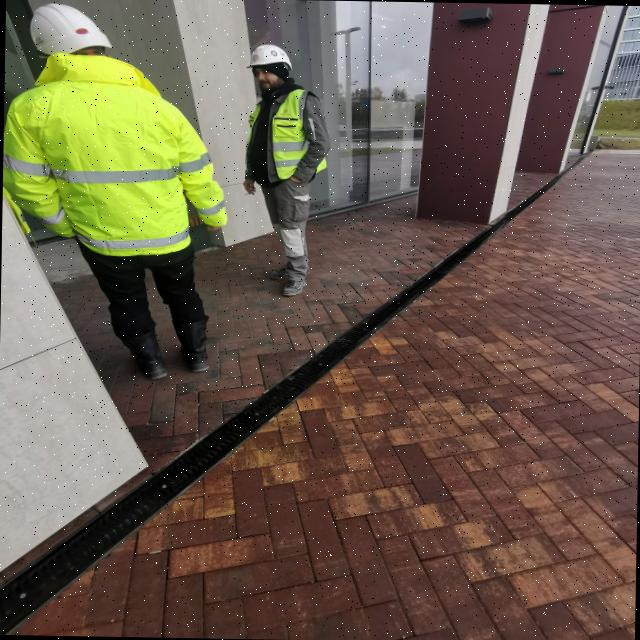Helmet: (30, 3, 119, 68), (247, 45, 298, 94)
